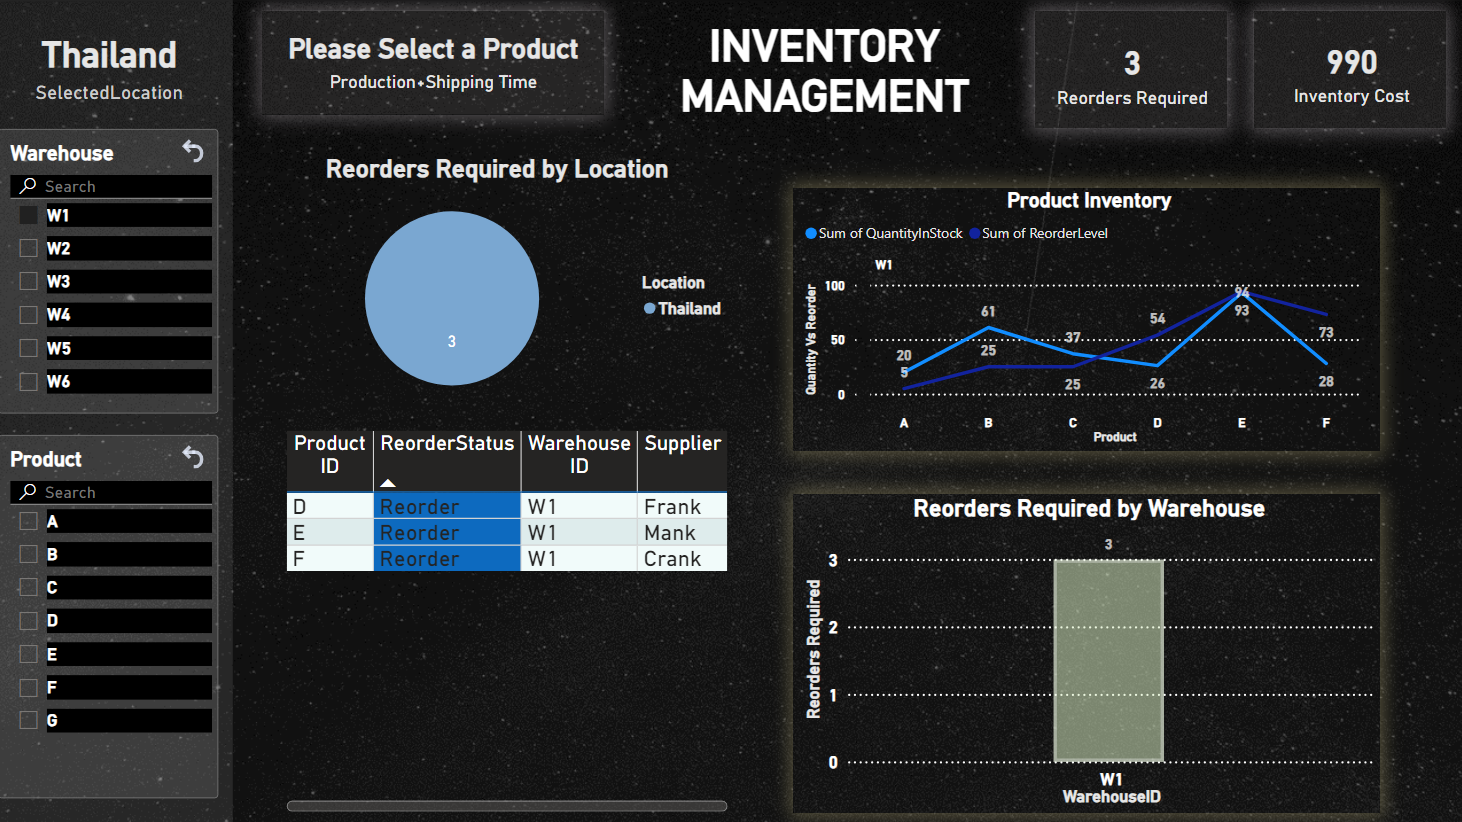

The dashboard page shown, as its layout file describes it:
{"tool":"powerbi","page":{"name":"Page 1","canvas":[1280,720],"ordinal":0},"visuals":[{"type":"shape","box":[230.2,9.1,298.3,90.9],"z":0},{"type":"shape","box":[1094.8,9.1,168.1,103],"z":1000},{"type":"shape","box":[0,0,204.4,1079.6],"z":2000},{"type":"slicer","title":"Warehouse","fields":{"Values":["Table1. WarehouseID"]},"box":[0,112.1,192.3,248.3],"z":3000},{"type":"card","fields":{"Values":["Table1.TotalCost"]},"box":[1079.6,9.1,199.9,103],"z":4000},{"type":"lineChart","title":"Product Inventory","fields":{"Category":["Table1.ProductID"],"Y":["Table1.QuantityInStock","Table1.ReorderLevel"],"Rows":["Table1. WarehouseID"]},"box":[693.5,163.5,511.8,230.2],"z":5000},{"type":"tableEx","fields":{"Values":["Table1.ProductID","Table1.ReorderStatus","Table1. WarehouseID","Corrected_Table_2.Supplier"]},"box":[245.7,370.4,395,342],"z":6000},{"type":"columnChart","title":"Reorders Required by  Warehouse","fields":{"Y":["Table1.ReorderCount"],"Category":["Table1. WarehouseID"]},"box":[693.5,430,511.8,278.6],"z":7000},{"type":"slicer","title":"Product","fields":{"Values":["Corrected_Table_2.ProductID"]},"box":[0,378.6,192.3,316.5],"z":8000},{"type":"card","fields":{"Values":["Table1.SelectedLocation"]},"box":[1.5,9.1,190.8,90.9],"z":9000},{"type":"card","fields":{"Values":["Table1.ReorderCount"]},"box":[896.4,12.1,183.2,99.9],"z":10000},{"type":"card","fields":{"Values":["Corrected_Table_2.TotalTime"]},"box":[230.2,9.1,298.3,81.8],"z":11000},{"type":"shape","box":[904,9.1,168.1,103],"z":12000},{"type":"textbox","box":[560.3,12.1,322.5,121.1],"z":12002},{"type":"actionButton","box":[156,116.6,28.8,30.3],"z":12003},{"type":"actionButton","box":[156,383.1,28.8,30.3],"z":12004},{"type":"pieChart","fields":{"Category":["Table1.Location"],"Y":["Table1.ReorderCount"]},"box":[230.2,133.3,410.3,227.1],"z":12005}]}

Visuals, with their boxes in screenshot pixels (x1, y1, x2, y2), scaled from the page's 1280x720 canvas onto the 1462x822 screenshot:
shape: <box>263,10,604,114</box>
shape: <box>1250,10,1442,128</box>
shape: <box>0,0,233,821</box>
"Warehouse" slicer: <box>0,128,220,411</box>
card - Table1.TotalCost: <box>1233,10,1461,128</box>
"Product Inventory" lineChart: <box>792,187,1377,449</box>
tableEx - Table1.ProductID x Table1.ReorderStatus: <box>281,423,732,813</box>
"Reorders Required by  Warehouse" columnChart: <box>792,491,1377,809</box>
"Product" slicer: <box>0,432,220,794</box>
card - Table1.SelectedLocation: <box>2,10,220,114</box>
card - Table1.ReorderCount: <box>1024,14,1233,128</box>
card - Corrected_Table_2.TotalTime: <box>263,10,604,104</box>
shape: <box>1033,10,1225,128</box>
textbox: <box>640,14,1008,152</box>
actionButton: <box>178,133,211,168</box>
actionButton: <box>178,437,211,472</box>
pieChart - Table1.Location x Table1.ReorderCount: <box>263,152,732,411</box>
